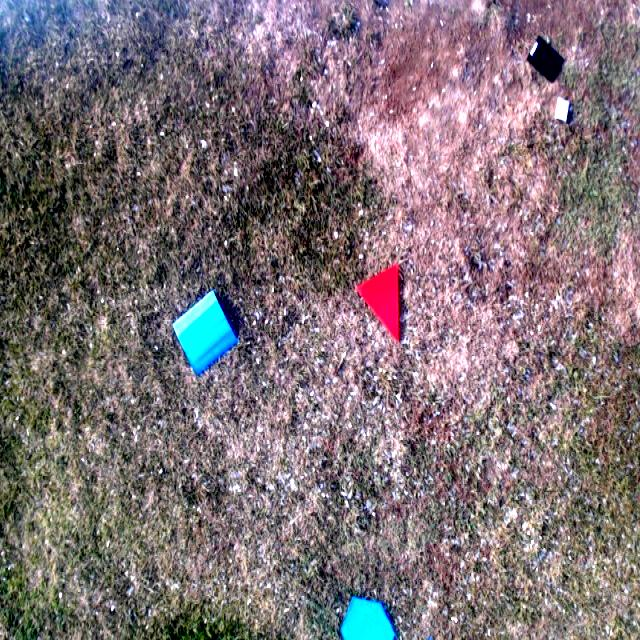blue_square: (169, 291, 242, 380)
red_triangle: (354, 263, 399, 343)
